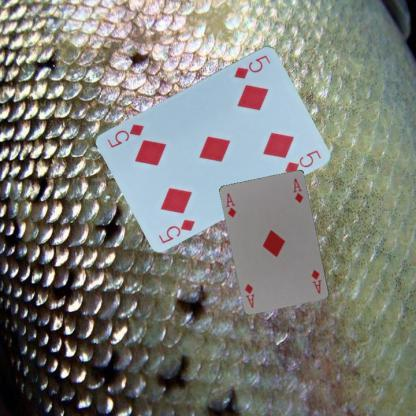5d: (232, 52, 272, 80), (156, 216, 196, 244)
Ad: (308, 267, 323, 295), (223, 191, 238, 219)
